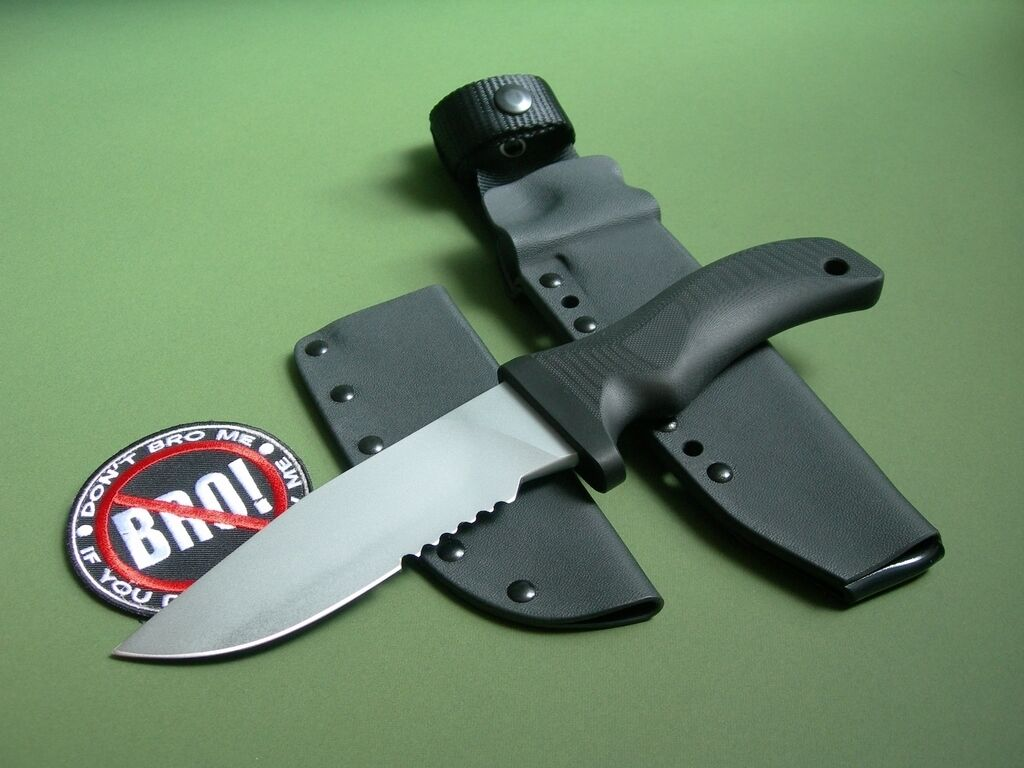knief: (102, 234, 890, 686)
